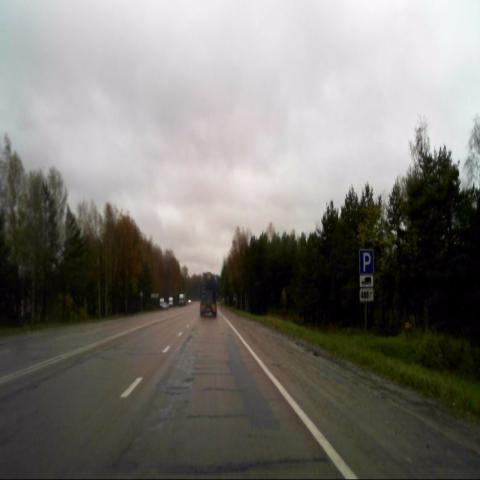6_4: (358, 248, 374, 276)
8_4_1: (359, 277, 374, 288)
